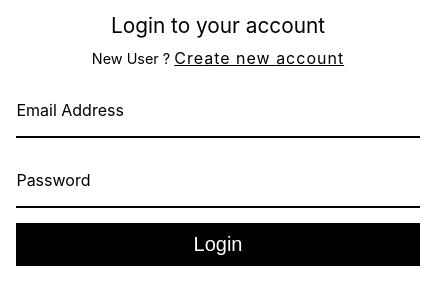
Test case: Checking Login Page › invalid email
This screenshot has width=437, height=301.
Type "test@test" into the field at (218, 108), box [16,78,420,138]
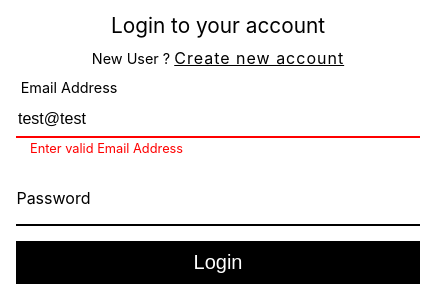
Now the text "Enter valid Email Address" is shown, box [30,141,183,156]
